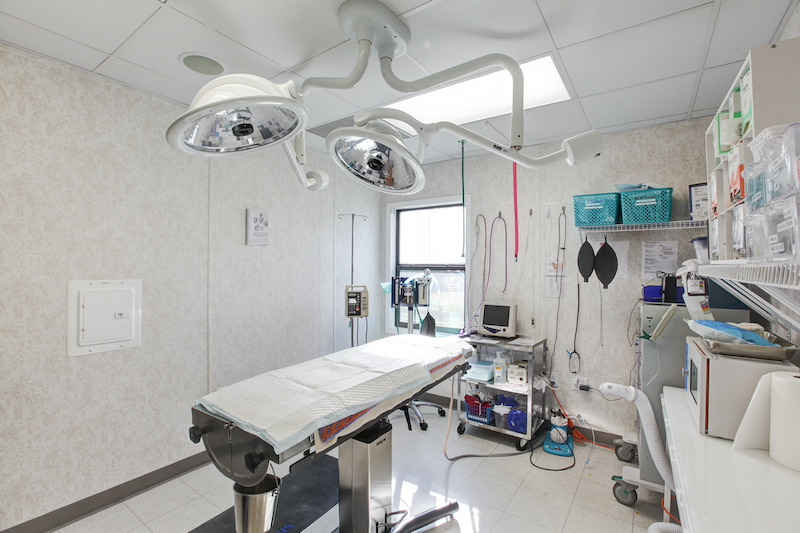bedside_monitor: (478, 302, 516, 335)
cabinet: (692, 43, 800, 291)
countertop: (661, 382, 800, 533)
infusion_pump: (347, 281, 371, 321)
iv_pole: (338, 214, 368, 348)
operating_bed: (186, 332, 474, 533)
surgical_light: (165, 3, 585, 196)
utility_cart: (449, 335, 551, 448)
